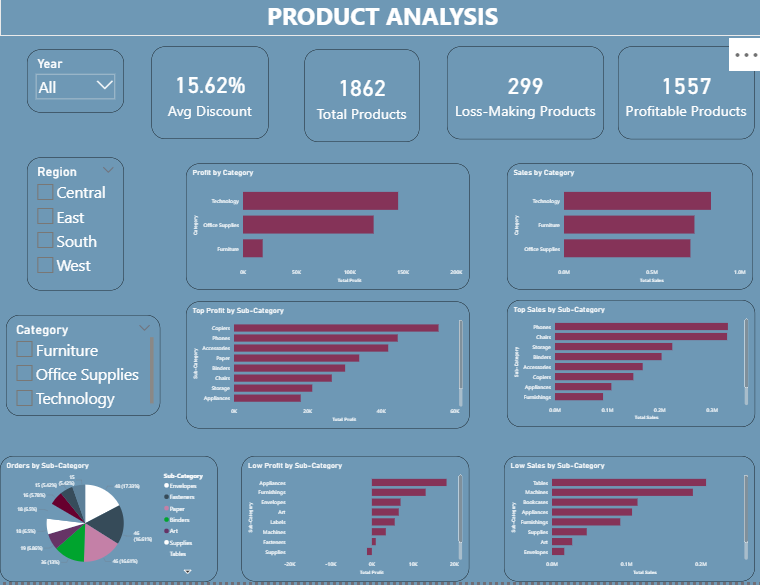

Layout of this report page (visuals, bound fields, positions):
{"tool":"powerbi","page":{"name":"PRODUCT ANALYSIS","canvas":[1700,1300],"ordinal":1},"visuals":[{"type":"slicer","fields":{"Values":["DateTable.Year"]},"box":[60,115,215,140],"z":0},{"type":"pieChart","title":"Orders by Sub-Category","fields":{"Y":["DateTable.Total Orders"],"Category":["Superstore.Sub-Category"]},"box":[0,1020,483.3,280],"z":1000},{"type":"slicer","fields":{"Values":["Superstore.Region"]},"box":[60,355,215,295],"z":2000},{"type":"slicer","fields":{"Values":["Superstore.Category"]},"box":[12.1,706.1,342.4,224.2],"z":3000},{"type":"barChart","title":"Profit by Category","fields":{"Y":["DateTable.Total Profit"],"Category":["Superstore.Category"]},"box":[413.3,370,630,280],"z":4000},{"type":"barChart","title":"Sales by Category","fields":{"Y":["Superstore.Total Sales"],"Category":["Superstore.Category"]},"box":[1126.7,370,546.7,280],"z":5000},{"type":"barChart","title":"Top Profit by Sub-Category","fields":{"Y":["DateTable.Total Profit"],"Category":["Superstore.Sub-Category"]},"box":[412.1,675.8,630.3,281.8],"z":6000},{"type":"barChart","title":"Top Sales by Sub-Category","fields":{"Category":["Superstore.Sub-Category"],"Y":["Superstore.Total Sales"]},"box":[1127.3,672.7,551.5,281.8],"z":7000},{"type":"barChart","title":"Low Profit by Sub-Category","fields":{"Y":["DateTable.Total Profit"],"Category":["Superstore.Sub-Category"]},"box":[536.4,1021.2,506.1,278.8],"z":8000},{"type":"barChart","title":"Low Sales by Sub-Category","fields":{"Category":["Superstore.Sub-Category"],"Y":["Superstore.Total Sales"]},"box":[1121.2,1021.2,557.6,278.8],"z":9000},{"type":"card","fields":{"Values":["DateTable.Break Even Products"]},"box":[311.1,111.1,325.9,203.7],"z":10000},{"type":"card","fields":{"Values":["DateTable.Loss Products"]},"box":[993.9,109.1,348.5,206.1],"z":11000},{"type":"card","fields":{"Values":["DateTable.Profit Products"]},"box":[1372.7,109.1,303,206.1],"z":12000},{"type":"card","fields":{"Values":["DateTable.Total Products"]},"box":[675,115,255,205],"z":13000},{"type":"textbox","box":[0,0,1700,86.7],"z":14000}]}

Visuals, with their boxes in screenshot pixels (x1, y1, x2, y2), scaled from the page's 1700x1300 canvas onto the 760x585 screenshot:
slicer - DateTable.Year: <bbox>27, 52, 123, 115</bbox>
"Orders by Sub-Category" pieChart: <bbox>0, 459, 216, 584</bbox>
slicer - Superstore.Region: <bbox>27, 160, 123, 292</bbox>
slicer - Superstore.Category: <bbox>5, 318, 158, 419</bbox>
"Profit by Category" barChart: <bbox>185, 166, 466, 292</bbox>
"Sales by Category" barChart: <bbox>504, 166, 748, 292</bbox>
"Top Profit by Sub-Category" barChart: <bbox>184, 304, 466, 431</bbox>
"Top Sales by Sub-Category" barChart: <bbox>504, 303, 751, 430</bbox>
"Low Profit by Sub-Category" barChart: <bbox>240, 460, 466, 584</bbox>
"Low Sales by Sub-Category" barChart: <bbox>501, 460, 751, 584</bbox>
card - DateTable.Break Even Products: <bbox>139, 50, 285, 142</bbox>
card - DateTable.Loss Products: <bbox>444, 49, 600, 142</bbox>
card - DateTable.Profit Products: <bbox>614, 49, 749, 142</bbox>
card - DateTable.Total Products: <bbox>302, 52, 416, 144</bbox>
textbox: <bbox>0, 0, 759, 39</bbox>
